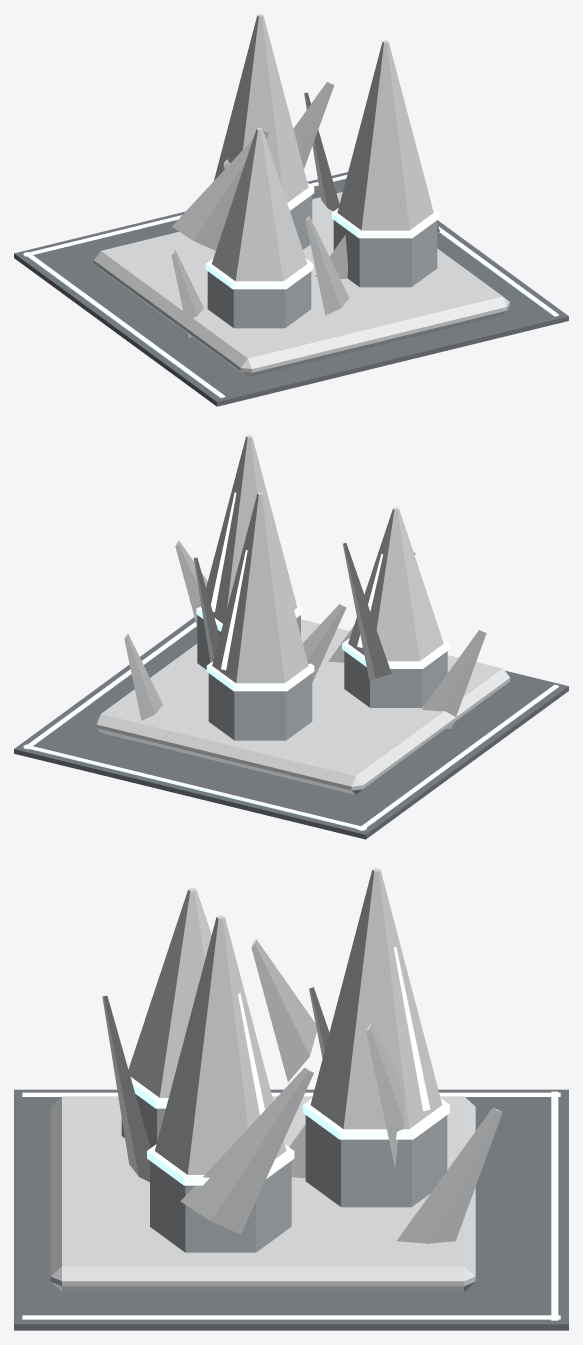
Rendered from zone_low_1.glb.
3 views of the same model, one above another, from view 1: azimuth 30°, elevation 25°; view 2: azimuth 150°, elevation 25°; view 3: azimuth 270°, elevation 25° (orthographic). The views are drawn at different scales.
Visible parts, largest first — view 1: zone_low_1, detail; view 2: zone_low_1, detail; view 3: zone_low_1, detail.
Boxes of the visible parts, left/top/right/bottom form: zone_low_1: left=14, top=14, right=568, bottom=406; detail: left=23, top=175, right=558, bottom=397; zone_low_1: left=14, top=435, right=568, bottom=839; detail: left=23, top=622, right=558, bottom=830; zone_low_1: left=14, top=868, right=568, bottom=1330; detail: left=22, top=1091, right=560, bottom=1320.
Size of the model in its own units: 19.6 by 15.75 by 19.6.
